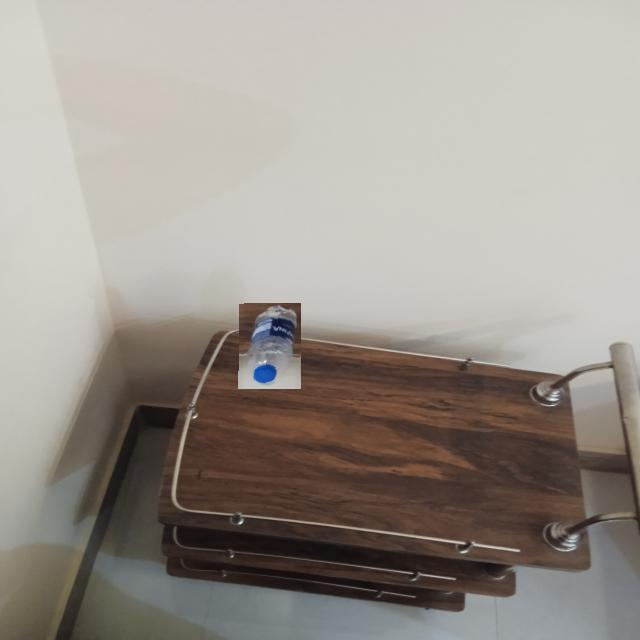Plastic: (238, 303, 301, 389)
